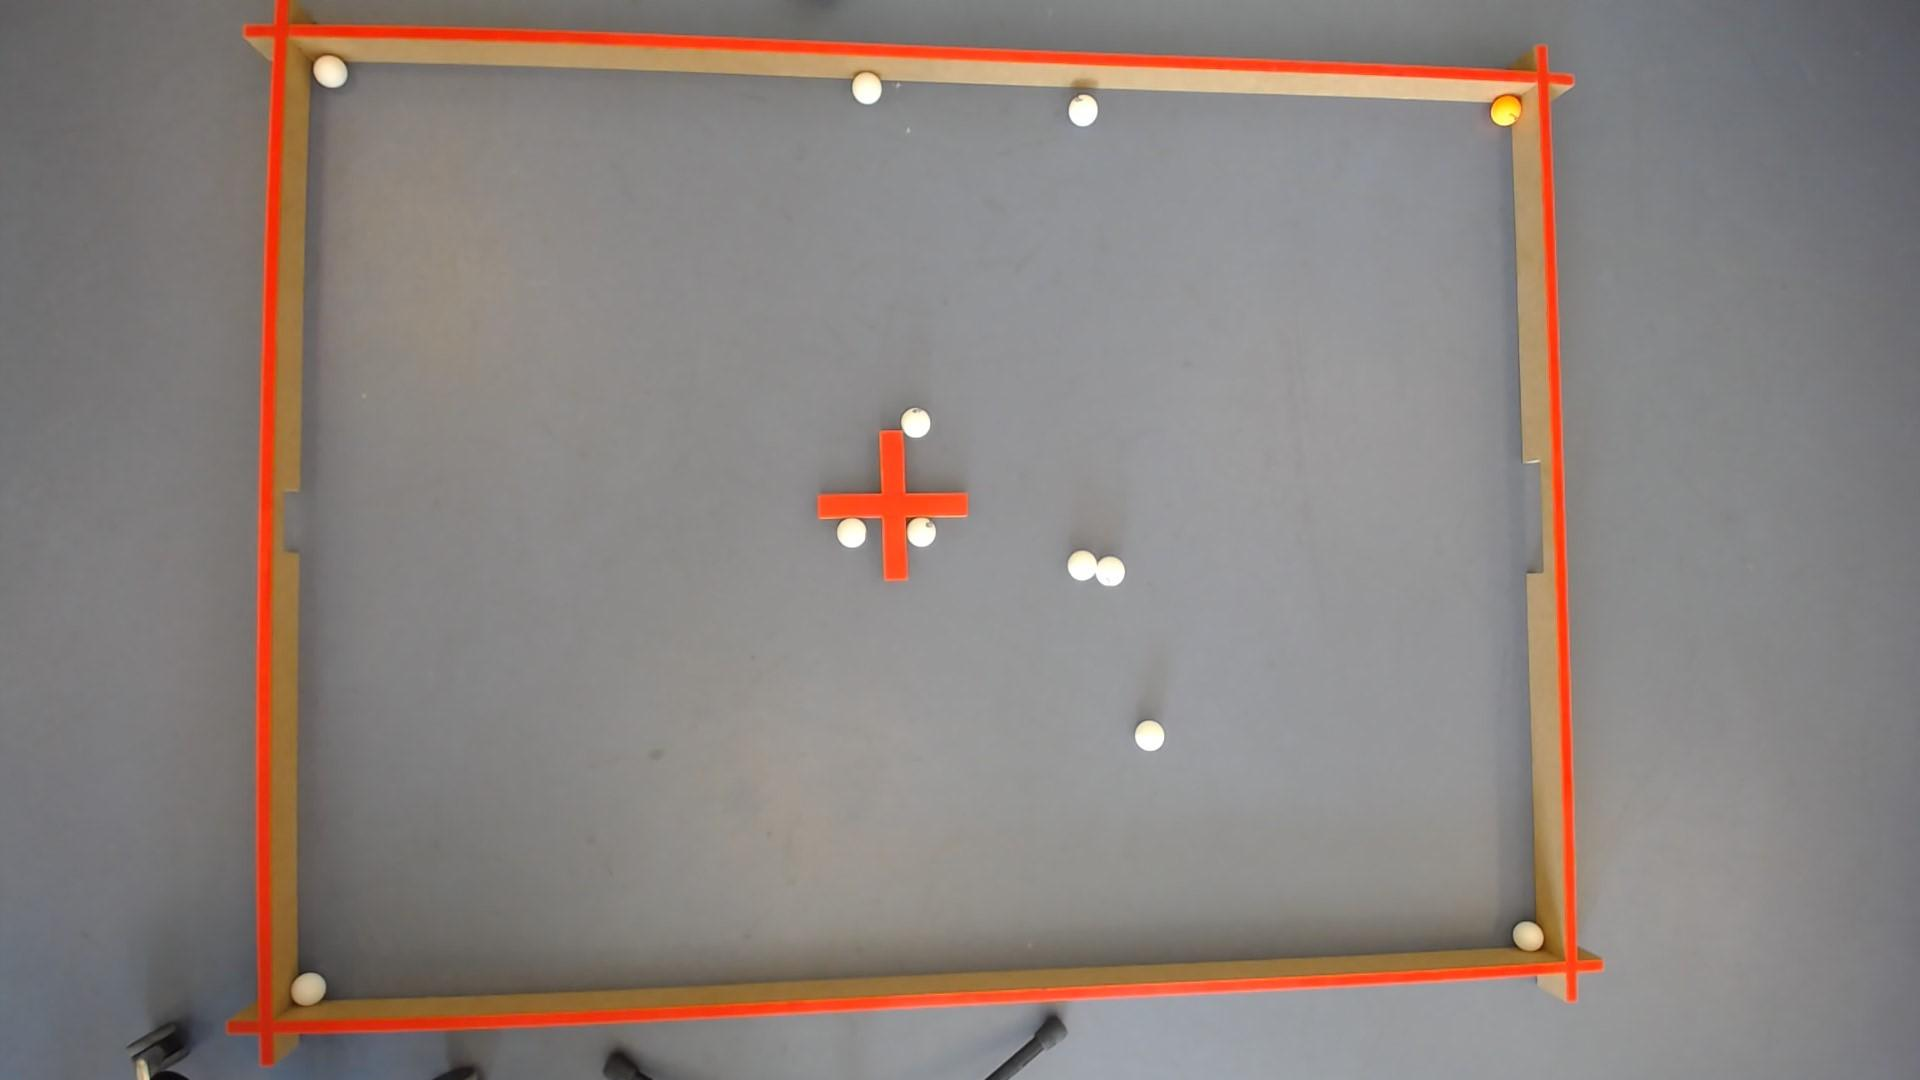orange: (1493, 92, 1524, 123)
white: (287, 973, 324, 1006), (311, 53, 345, 86), (852, 69, 882, 102), (1515, 922, 1548, 952), (1069, 90, 1098, 124), (1068, 549, 1098, 580), (901, 406, 931, 436), (1096, 555, 1126, 585), (1135, 720, 1166, 750), (907, 516, 936, 546), (837, 517, 866, 546)
